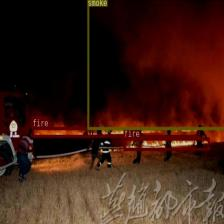fire: (32, 127, 200, 137), (124, 137, 210, 150)
smoke: (87, 0, 224, 129)
